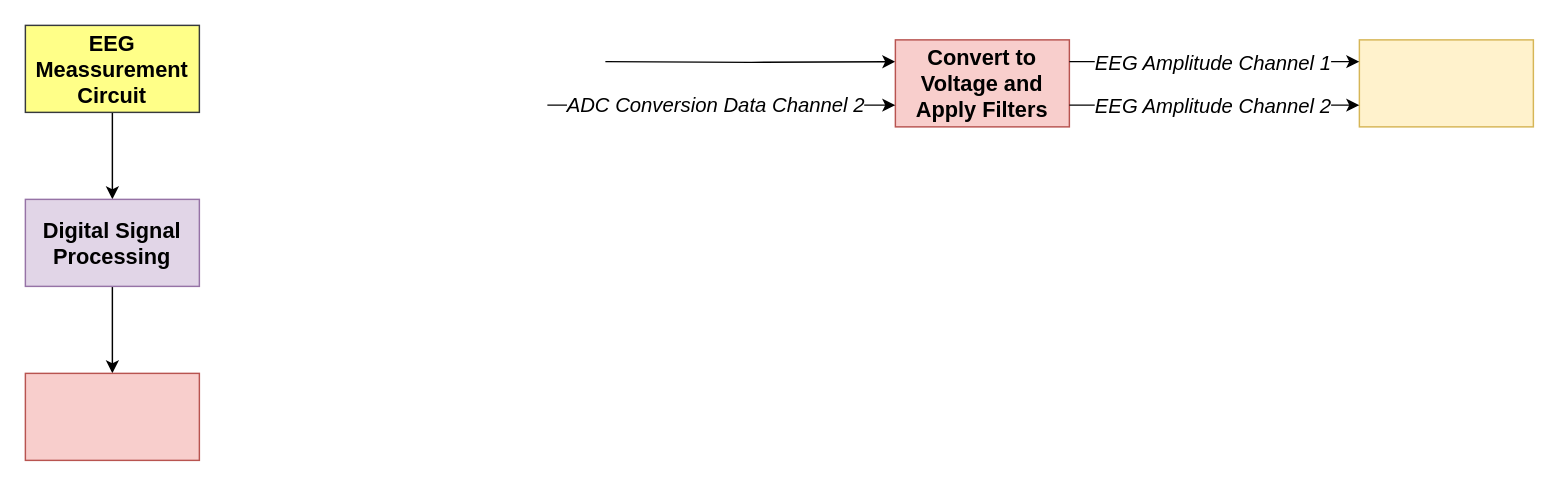
Image size: 1559x486. Some labels were removed from this diagram. Here are the shapes that lost their labels. From the top down, the centre of each, then its label:
At point 1445,82: "Graph Plotter".
At point 111,416: "Visualization".
